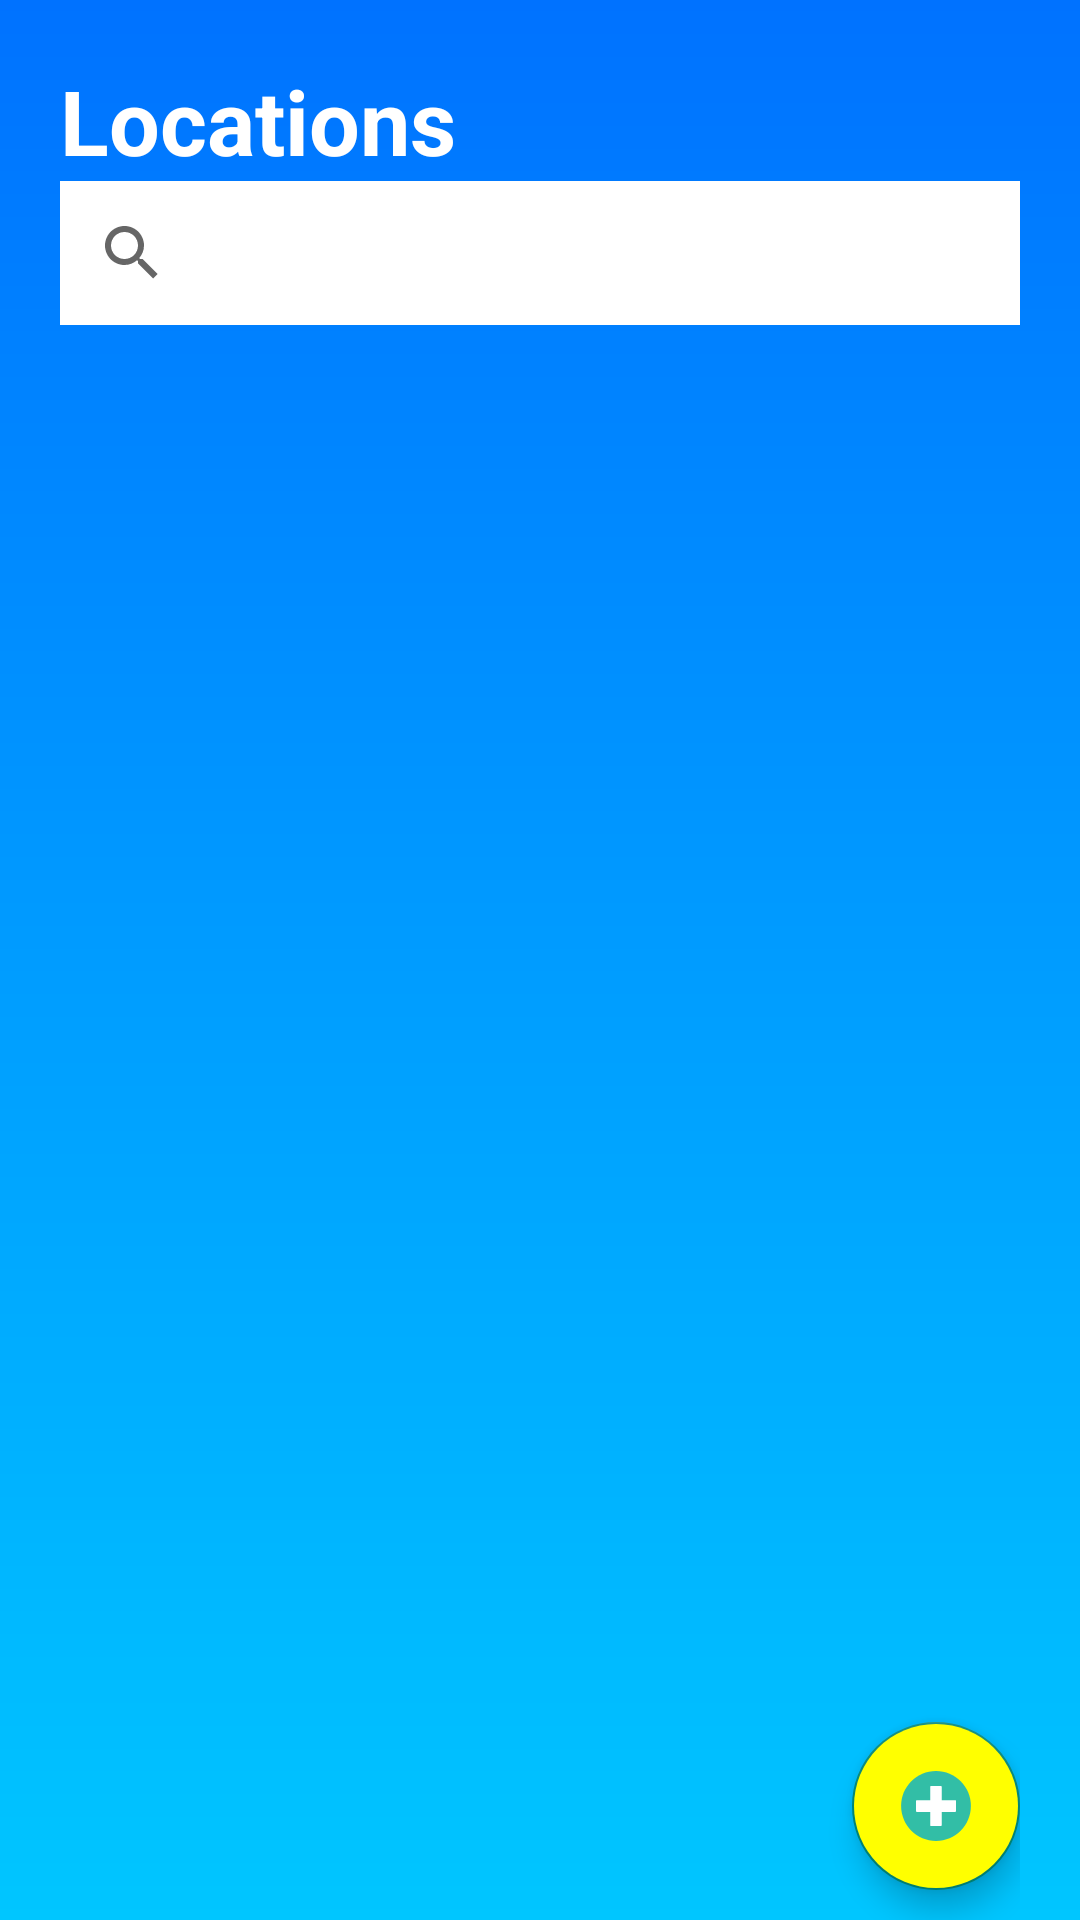

Locate icon controls on the screen. Image size 1080px×1920px, boxes as (x1, y1, x2, y2).
floating: (852, 1722, 1020, 1890)
